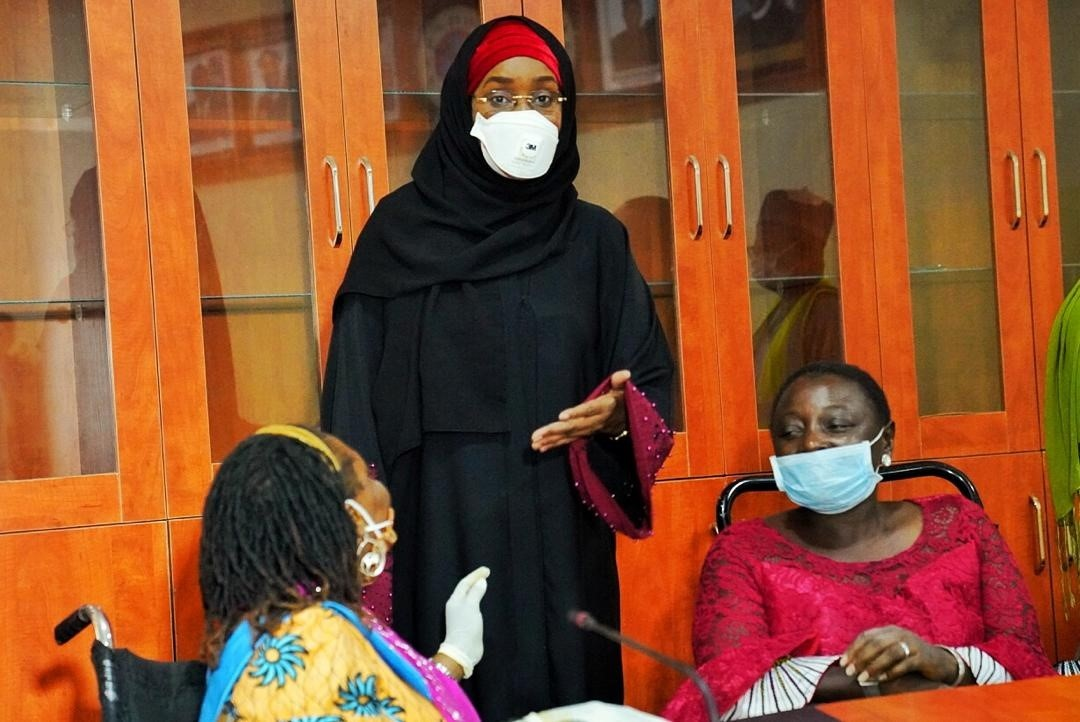face_with_mask: (456, 16, 570, 192), (768, 364, 895, 517)
